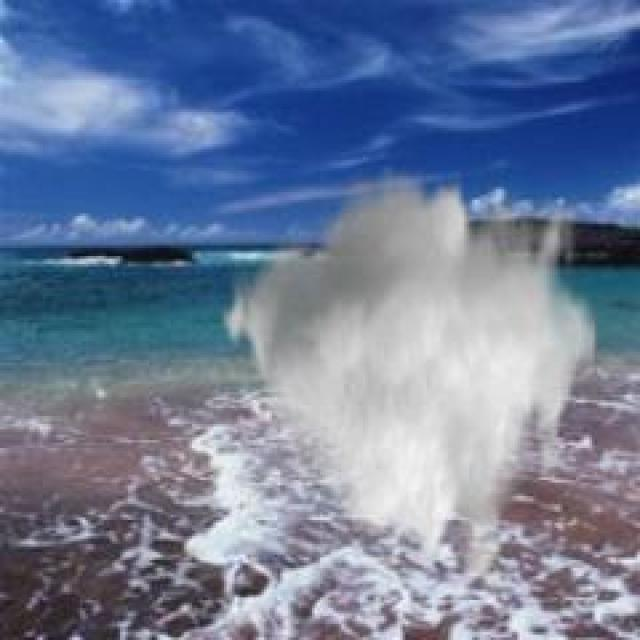smoke: (214, 166, 598, 582)
